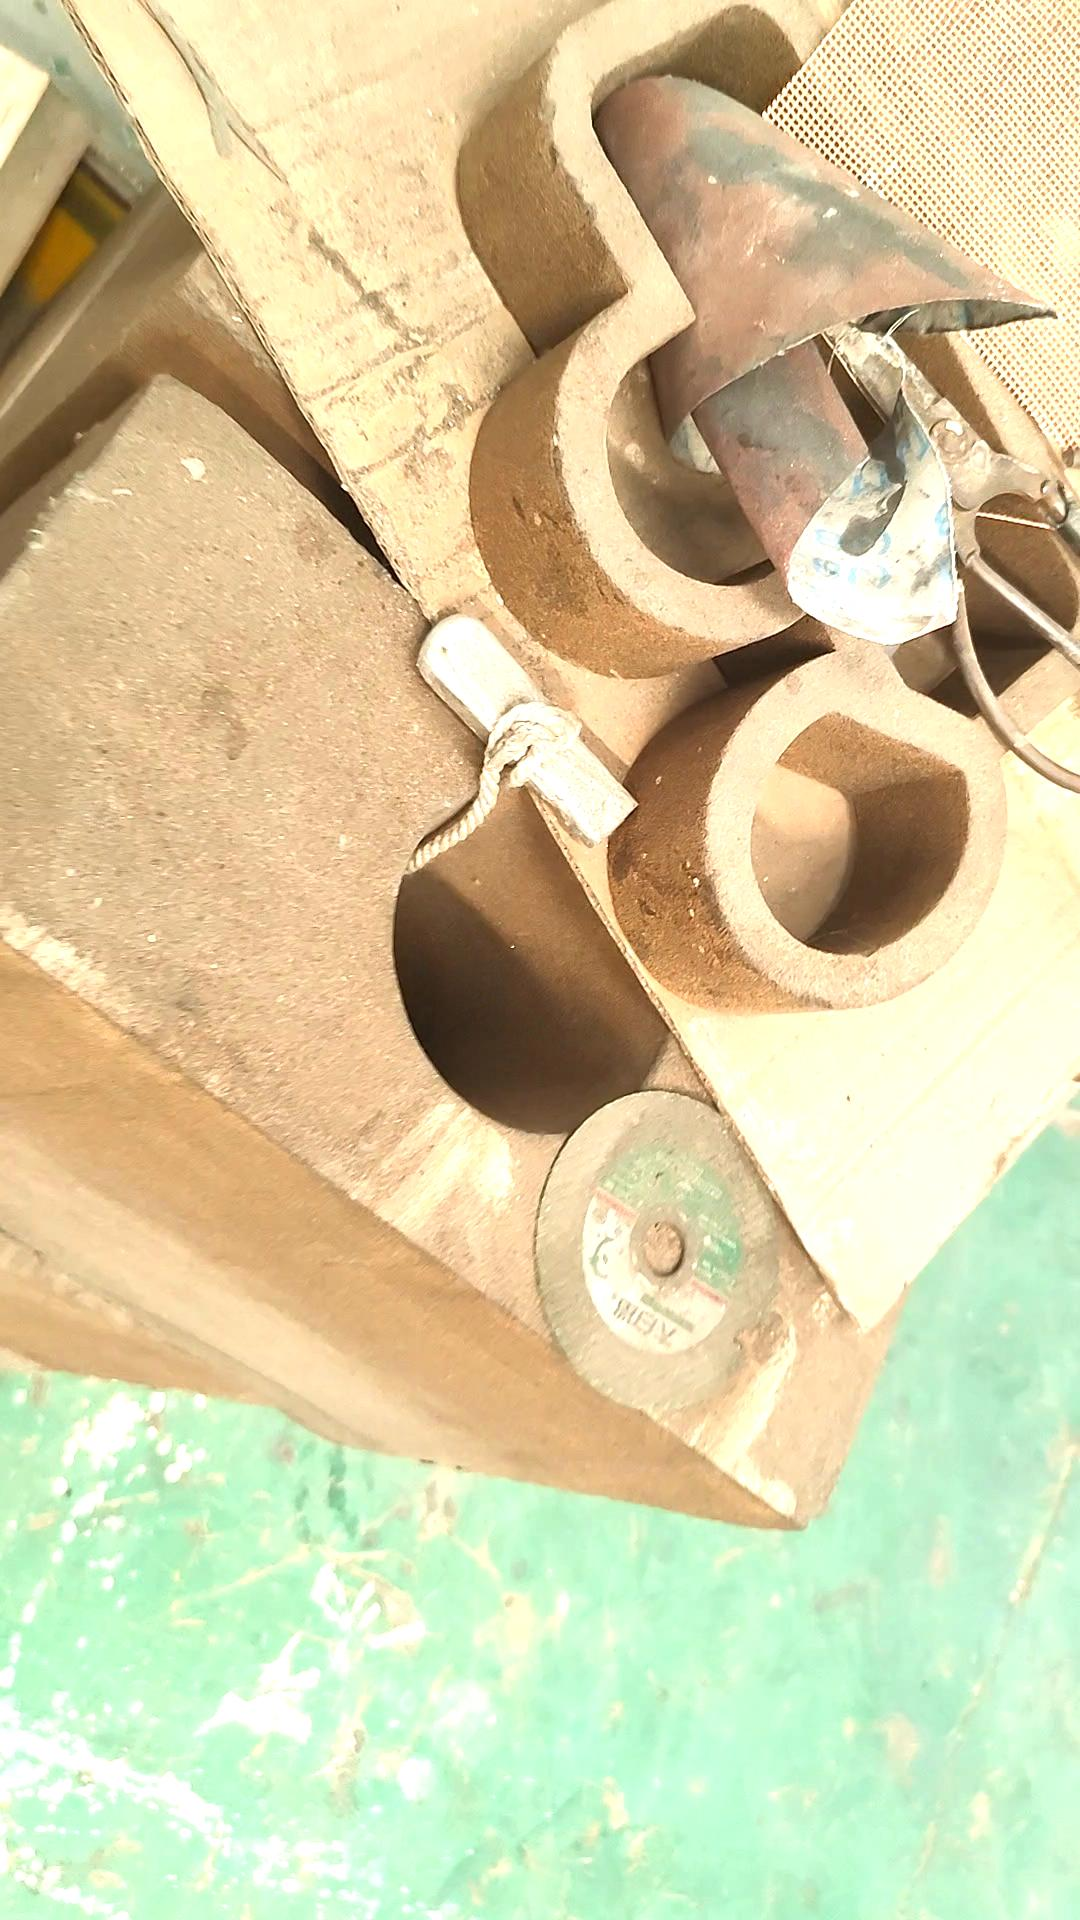pouring hole: (394, 775, 675, 1131)
